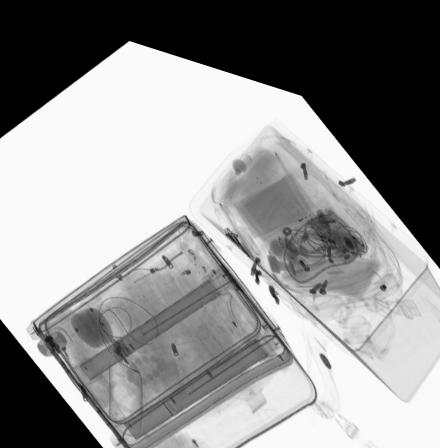Lighter: (284, 190, 318, 215)
